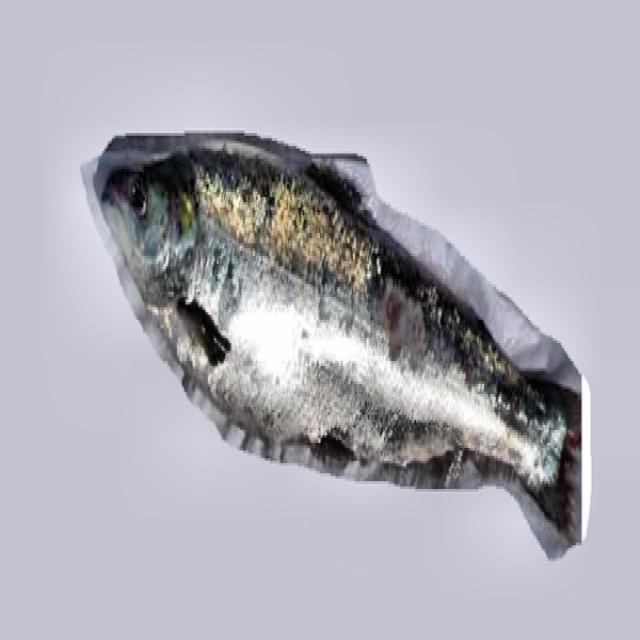mild_red: (383, 278, 431, 368), (321, 422, 364, 469), (429, 437, 458, 488), (463, 342, 483, 392)
